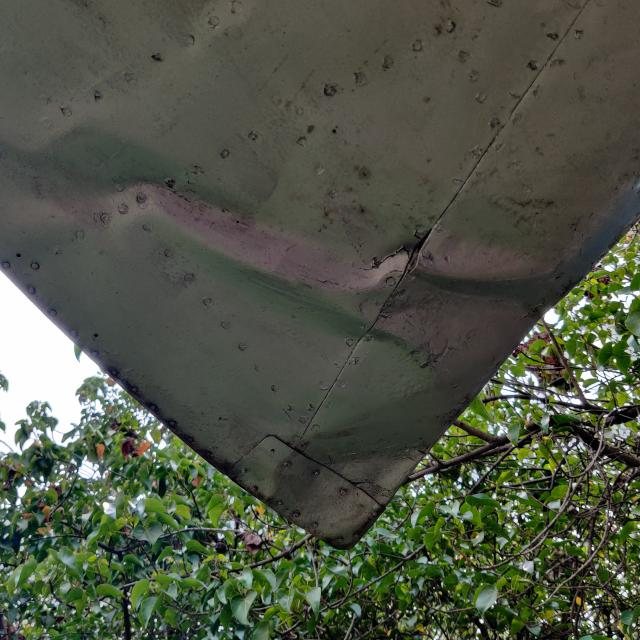crack: (353, 238, 416, 277)
dent: (2, 94, 594, 387), (263, 412, 444, 544)
